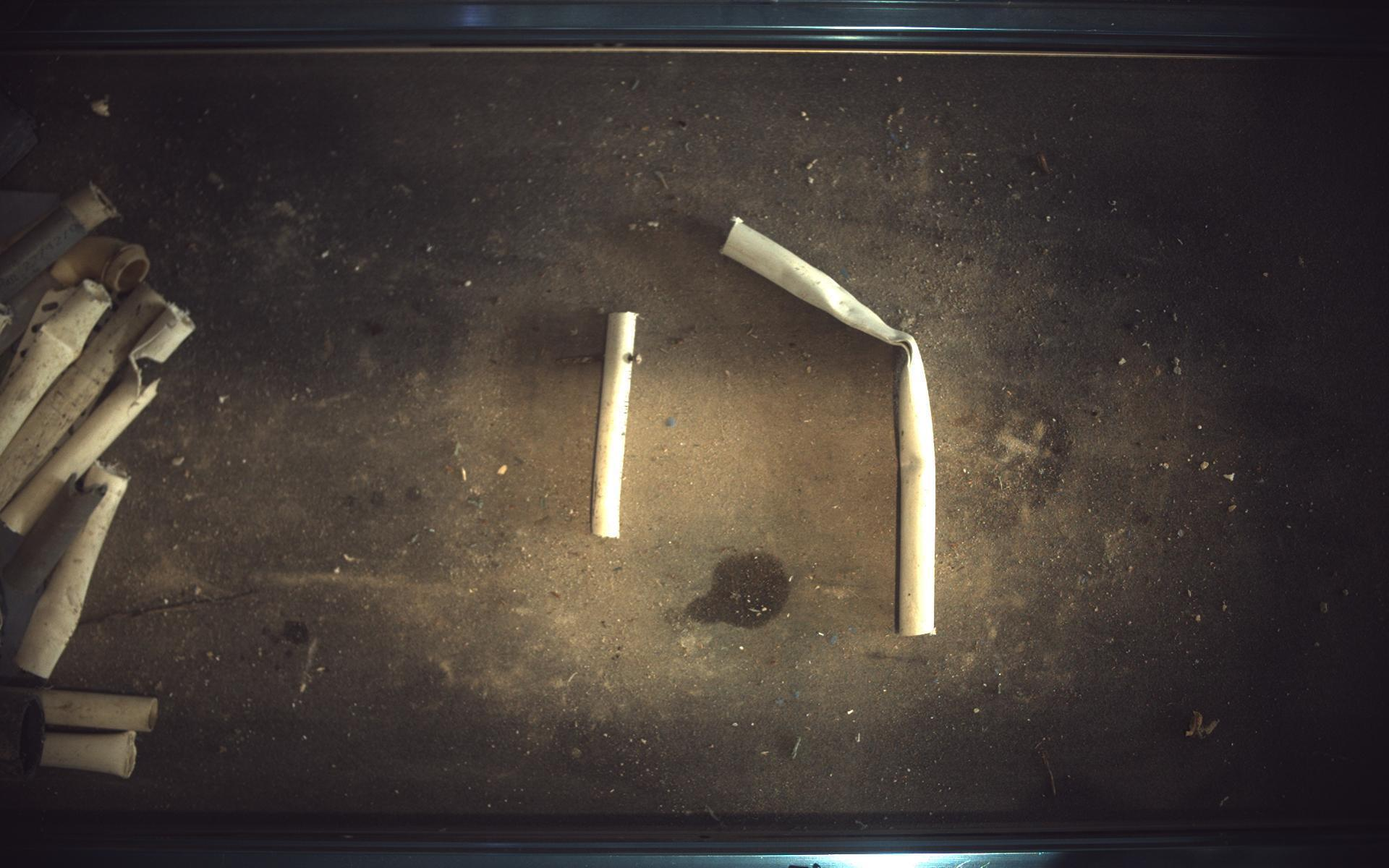pipes: (722, 217, 938, 637), (592, 311, 638, 539)
